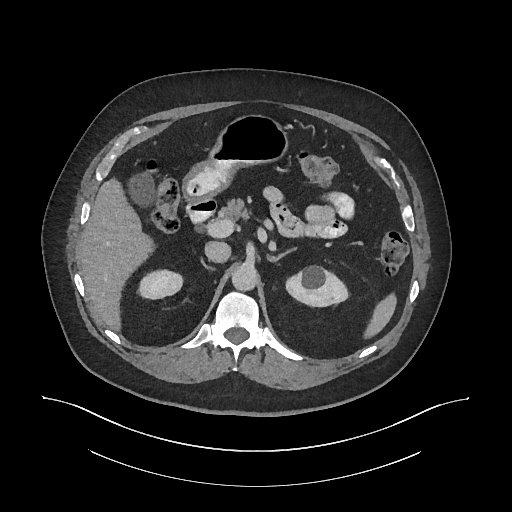Lesion: (296, 262, 329, 293)
